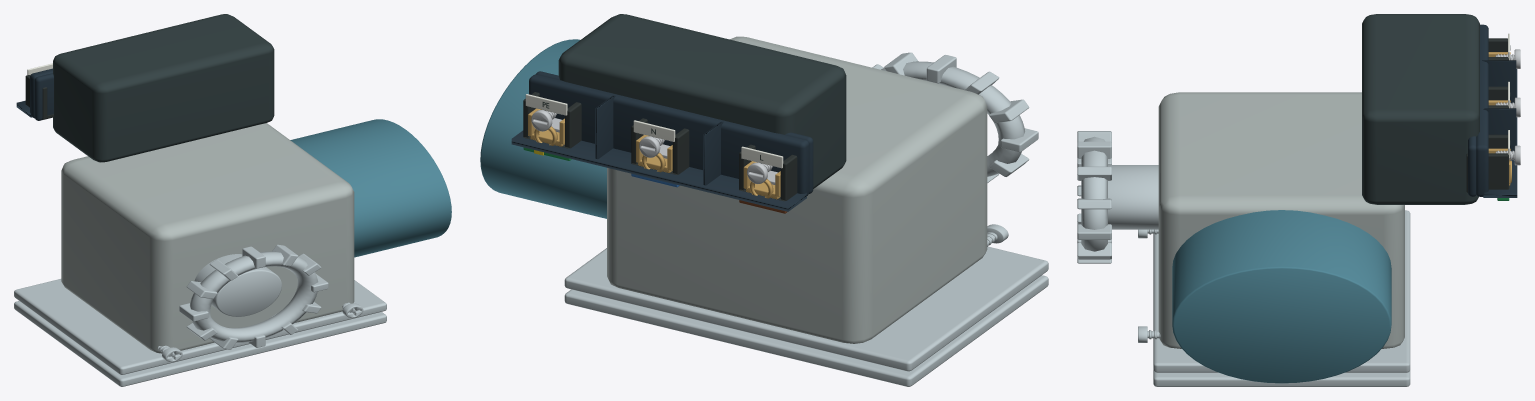
The model's file is motor_gate.glb.
The picture shows the model from 3 angles, left to right: view 1: azimuth 30°, elevation 25°; view 2: azimuth 150°, elevation 25°; view 3: azimuth 270°, elevation 25°; orthographic projection. The views are drawn at different scales.
Visible parts, largest first — view 1: Gate reduction gearbox, Rear motor connection box, Geared motor housing, part:mounting · Machined steel, motion:gate-output · Machined steel, part:terminals · Original a463fd81; view 2: Gate reduction gearbox, Rear motor connection box, part:mounting · Machined steel, part:terminals · Original a463fd81, Geared motor housing, motion:gate-output · Machined steel, detail:terminal-clamp:L · Detail moulded engineering polymer, detail:terminal-clamp:N · Detail moulded engineering polymer, detail:terminal-clamp:PE · Detail moulded engineering polyme, detail:terminal-clamp:L · Detail machined brass, detail:terminal-clamp:N · Detail machined brass, detail:terminal-clamp:PE · Detail machined brass (+6 smaller); view 3: Geared motor housing, Gate reduction gearbox, Rear motor connection box, motion:gate-output · Machined steel, part:mounting · Machined steel, part:terminals · Original a463fd81, detail:terminal-clamp:PE · Detail moulded engineering polyme, detail:terminal-clamp:N · Detail moulded engineering polymer.
Boxes of the visible parts, <box> form: Gate reduction gearbox: <box>61,123,354,353</box>; Rear motor connection box: <box>53,14,274,162</box>; Geared motor housing: <box>290,119,451,257</box>; part:mounting · Machined steel: <box>14,279,386,386</box>; motion:gate-output · Machined steel: <box>179,244,328,349</box>; part:terminals · Original a463fd81: <box>16,68,53,120</box>; Gate reduction gearbox: <box>607,36,987,343</box>; Rear motor connection box: <box>558,14,846,188</box>; part:mounting · Machined steel: <box>564,224,1048,386</box>; part:terminals · Original a463fd81: <box>511,71,813,211</box>; Geared motor housing: <box>480,39,606,218</box>; motion:gate-output · Machined steel: <box>872,52,1038,182</box>; detail:terminal-clamp:L · Detail moulded engineering polymer: <box>739,144,797,201</box>; detail:terminal-clamp:N · Detail moulded engineering polymer: <box>631,118,689,174</box>; detail:terminal-clamp:PE · Detail moulded engineering polyme: <box>523,92,581,148</box>; detail:terminal-clamp:L · Detail machined brass: <box>743,161,780,199</box>; detail:terminal-clamp:N · Detail machined brass: <box>636,135,672,172</box>; detail:terminal-clamp:PE · Detail machined brass: <box>528,108,564,146</box>; Geared motor housing: <box>1172,210,1391,383</box>; Gate reduction gearbox: <box>1158,92,1404,348</box>; Rear motor connection box: <box>1362,14,1479,204</box>; motion:gate-output · Machined steel: <box>1077,131,1158,263</box>; part:mounting · Machined steel: <box>1138,210,1410,386</box>; part:terminals · Original a463fd81: <box>1468,24,1517,197</box>; detail:terminal-clamp:PE · Detail moulded engineering polyme: <box>1466,134,1509,192</box>; detail:terminal-clamp:N · Detail moulded engineering polymer: <box>1488,86,1508,108</box>.
Size of the model in its own units: 1.23 by 0.7589 by 1.17.
